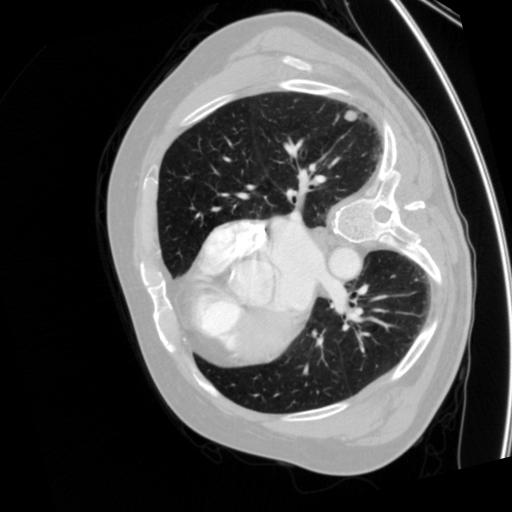nodule: (341, 106, 360, 125)
